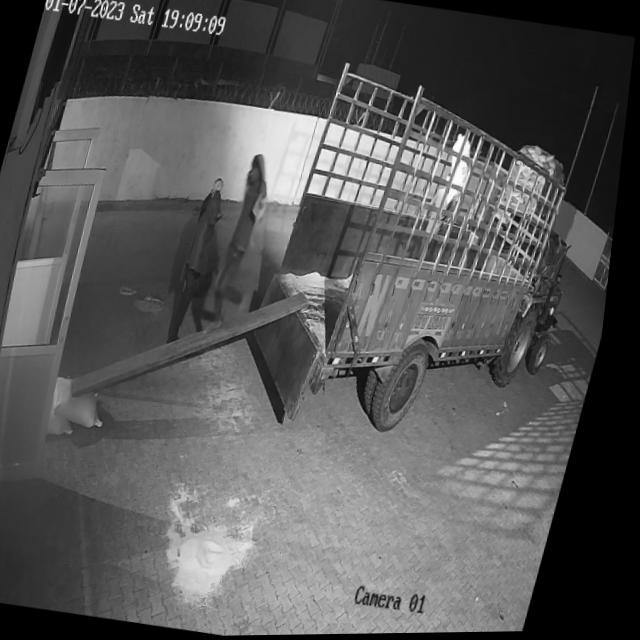sack: (54, 374, 122, 432)
